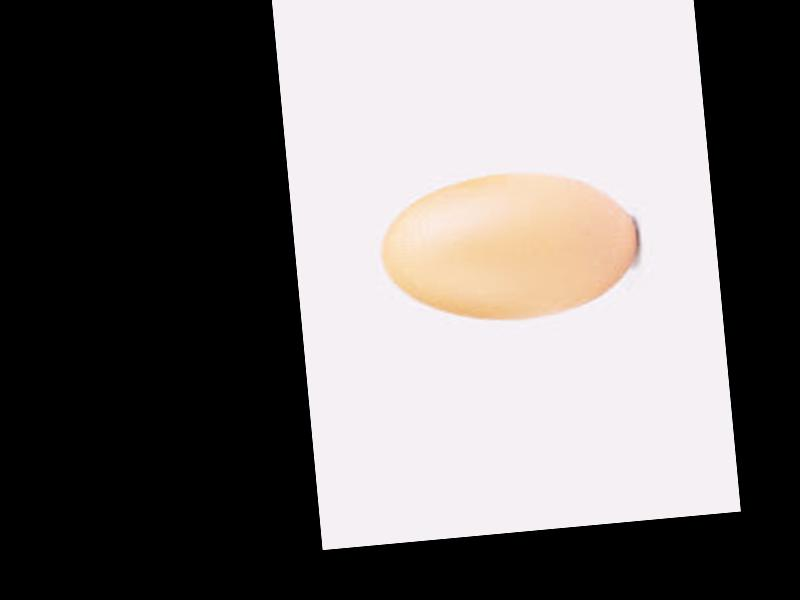Eggs: (371, 164, 645, 330)
